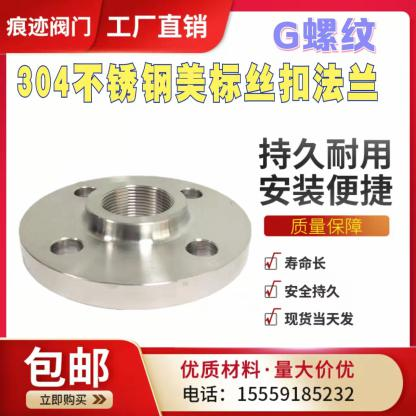FOD: (17, 172, 256, 313)
